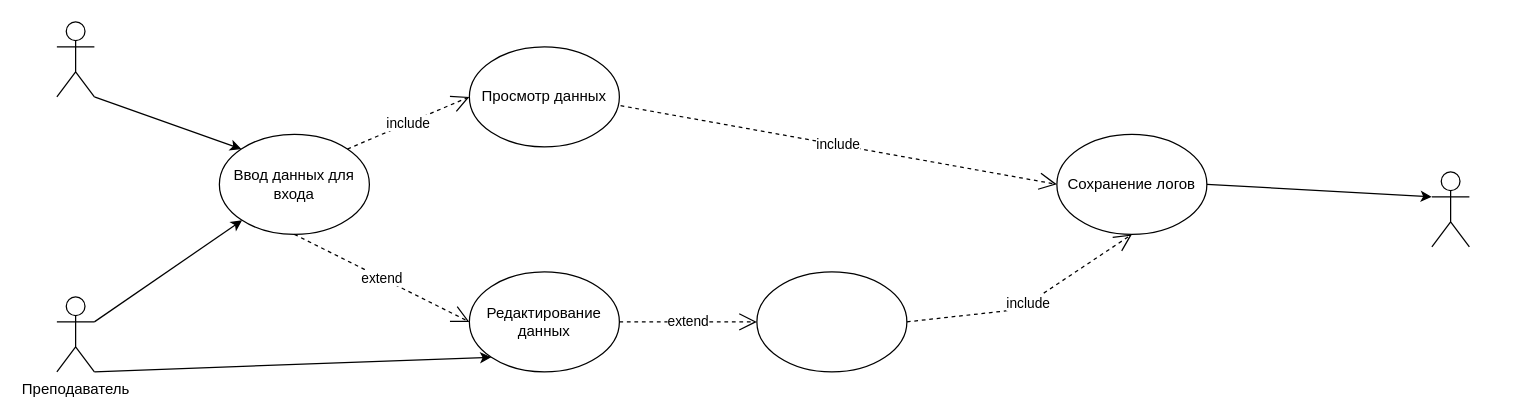
This 1520x420 diagram has some shape labels left out. Here are the shapes that lost their labels. From the top down, the centre of each, then its label:
point (75, 59): Студент
point (1450, 209): Инф. система
point (831, 321): Сохранение данных
